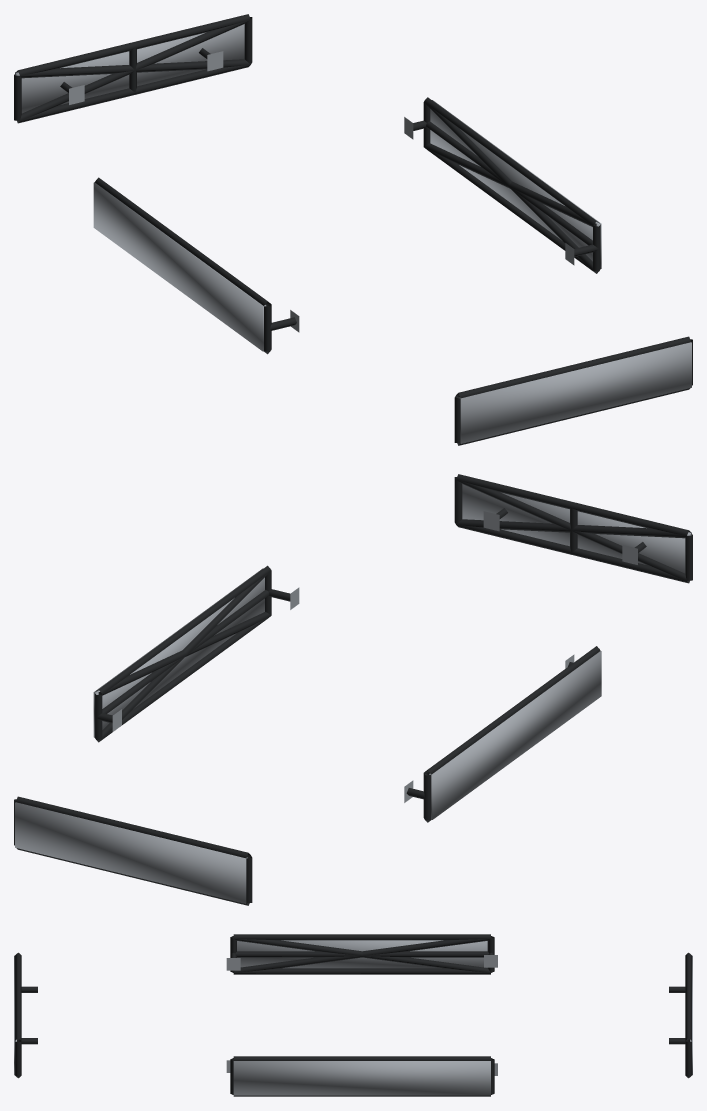
The model's file is whitlock_lavrador_protecao.glb.
The picture shows the model from 3 angles, top to bottom: view 1: azimuth 30°, elevation 25°; view 2: azimuth 150°, elevation 25°; view 3: azimuth 270°, elevation 25°; orthographic projection. The views are drawn at different scales.
Parts seen in each view (by area): view 1: Protection_front_Level3_Details, Protection_left_Level3_Details, Protection_rear_Level3_Details, Protection_rear_Level1_Details, Protection_right_Level1_Details, Protection_right_Level2_Details, Protection_rear_Level2_Details, Protection_right_Level3_Details, Protection_front_Level1_Details, Protection_left_Level1_Details; view 2: Protection_rear_Level3_Details, Protection_left_Level3_Details, Protection_front_Level3_Details, Protection_front_Level1_Details, Protection_right_Level1_Details, Protection_right_Level2_Details, Protection_front_Level2_Details, Protection_right_Level3_Details, Protection_rear_Level1_Details, Protection_left_Level1_Details; view 3: Protection_right_Level3_Details, Protection_left_Level2_Details, Protection_left_Level1_Details, Protection_left_Level3_Details, Protection_right_Level1_Details, Protection_rear_Level1_Details, Protection_front_Level1_Details.
Boxes of the visible parts, box(x1,y1,x2,y2) form: Protection_front_Level3_Details: box(459, 342, 691, 443); Protection_left_Level3_Details: box(93, 182, 266, 351); Protection_rear_Level3_Details: box(15, 24, 244, 113); Protection_rear_Level1_Details: box(14, 14, 252, 123); Protection_right_Level1_Details: box(404, 97, 600, 273); Protection_right_Level2_Details: box(424, 102, 599, 273); Protection_rear_Level2_Details: box(16, 20, 250, 122); Protection_right_Level3_Details: box(430, 100, 601, 268); Protection_front_Level1_Details: box(454, 336, 692, 445); Protection_left_Level1_Details: box(95, 177, 299, 354); Protection_rear_Level3_Details: box(15, 802, 247, 903); Protection_left_Level3_Details: box(429, 651, 601, 819); Protection_front_Level3_Details: box(462, 484, 691, 573); Protection_front_Level1_Details: box(454, 474, 692, 583); Protection_right_Level1_Details: box(94, 565, 299, 742); Protection_right_Level2_Details: box(96, 571, 271, 741); Protection_front_Level2_Details: box(456, 480, 690, 582); Protection_right_Level3_Details: box(93, 568, 264, 737); Protection_rear_Level1_Details: box(14, 796, 252, 905); Protection_left_Level1_Details: box(404, 646, 600, 822); Protection_right_Level3_Details: box(233, 1061, 490, 1095); Protection_left_Level2_Details: box(233, 936, 491, 972); Protection_left_Level1_Details: box(226, 934, 497, 974); Protection_left_Level3_Details: box(237, 940, 487, 968); Protection_right_Level1_Details: box(226, 1056, 497, 1096); Protection_rear_Level1_Details: box(669, 952, 691, 1078); Protection_front_Level1_Details: box(15, 952, 37, 1078).
Bounding box in the file's own units: 2.36 × 0.354 × 5.38.
Materials: 1 (1 with a texture image).
